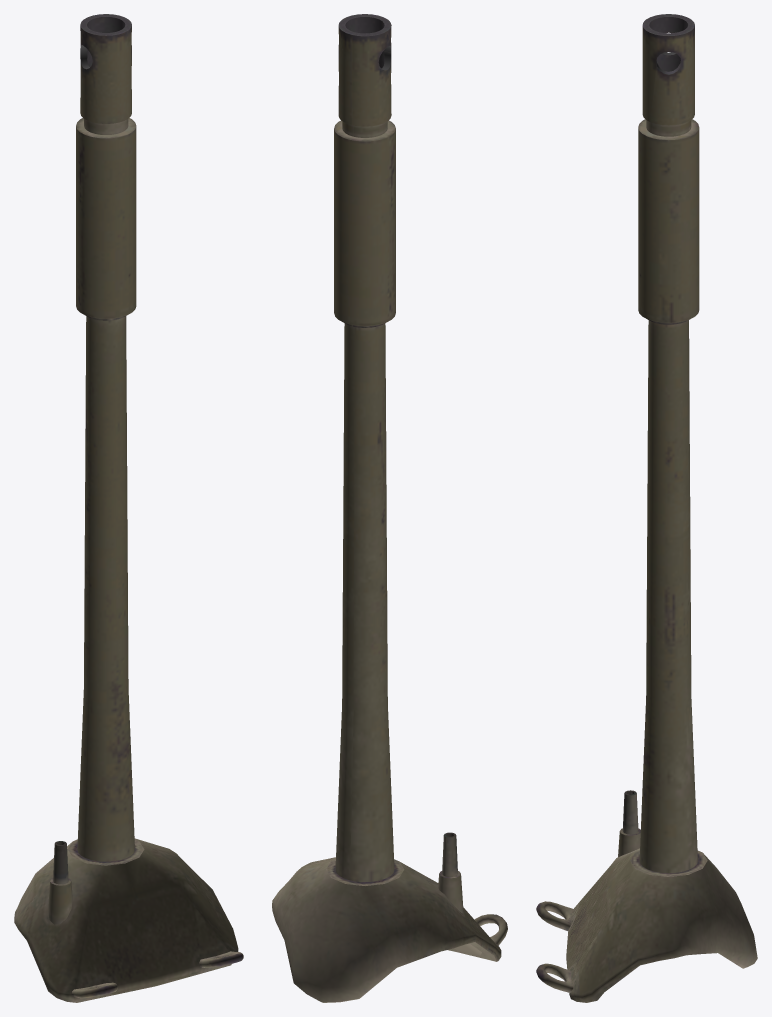
The model's file is Gun_09.glb.
3 renders of one model, left to right at view 1: azimuth 30°, elevation 25°; view 2: azimuth 150°, elevation 25°; view 3: azimuth 270°, elevation 25°, orthographic. The views are drawn at different scales.
Visible parts, largest first — view 1: set_0_group_0; view 2: set_0_group_0; view 3: set_0_group_0.
Boxes of the visible parts, x1,y1,x2,y2 form: set_0_group_0: (14,14,243,1002); set_0_group_0: (272,14,507,1002); set_0_group_0: (536,14,757,1002).
Bounding box in the file's own units: 0.7462 × 3.5 × 0.7505.
Materials: 1 (1 with a texture image).
